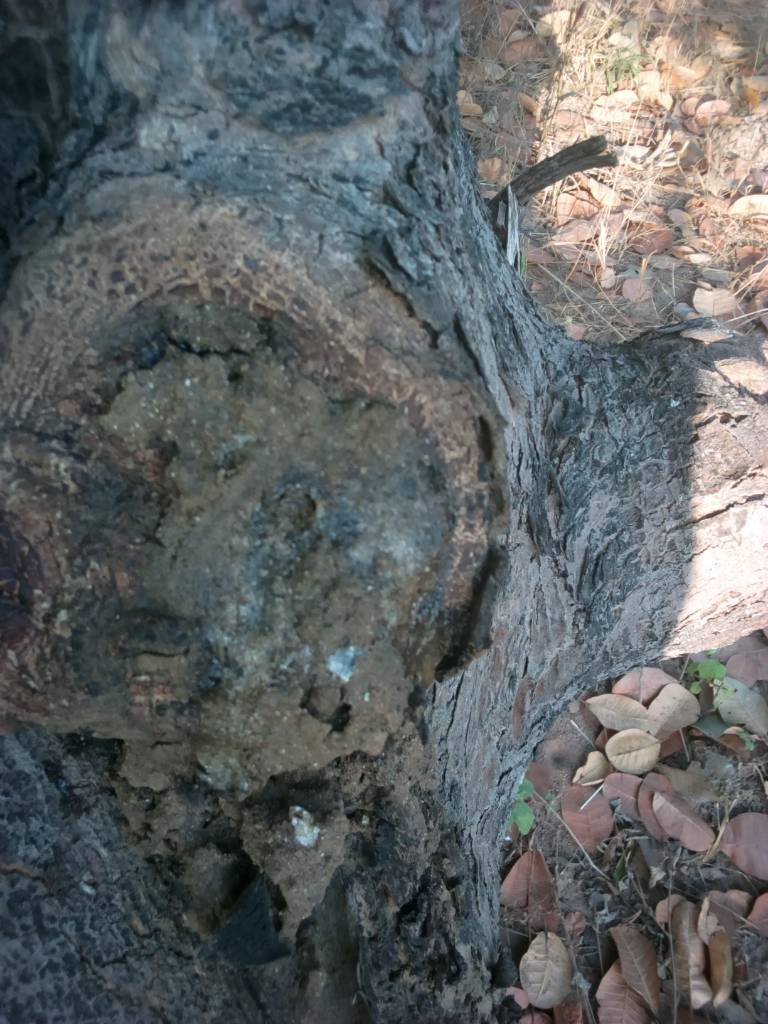Termites: (24, 224, 468, 903)
